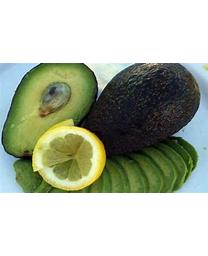avocado: (77, 63, 202, 160), (2, 64, 100, 160)
